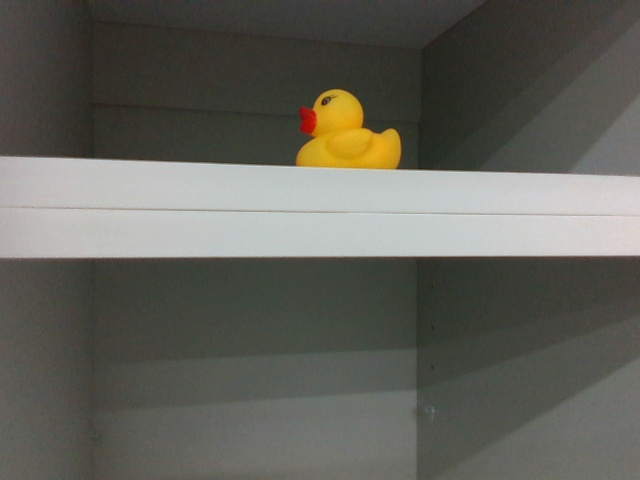duck: (293, 84, 403, 172)
